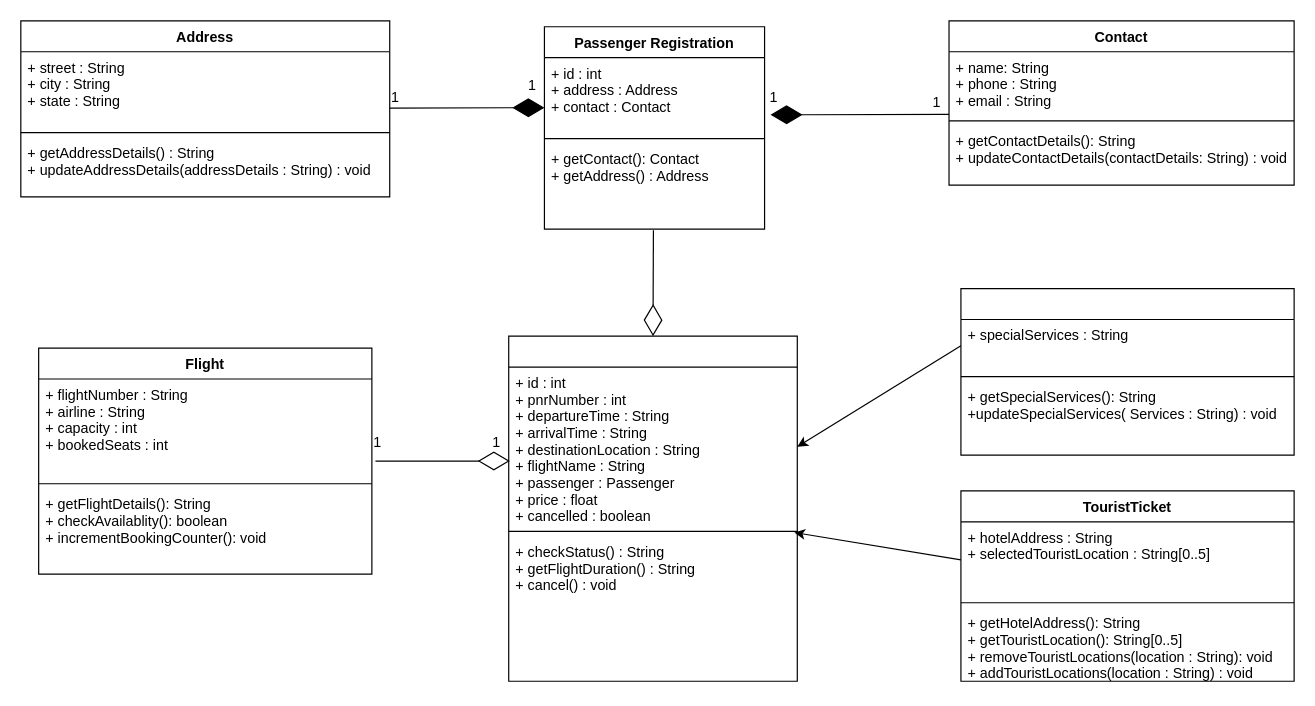
The diagram is 1315 pixels wide and 706 high, and some of its shapes have lost their labels. The box of each missing label's shape, as (x1, y1, x2, y2) in pixels:
RegularTicket: (960, 287, 1294, 455)
ticket: (508, 335, 797, 681)
